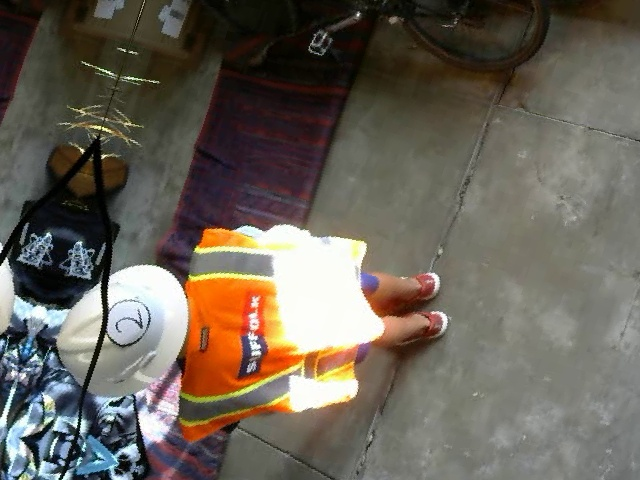two: (96, 292, 155, 349)
